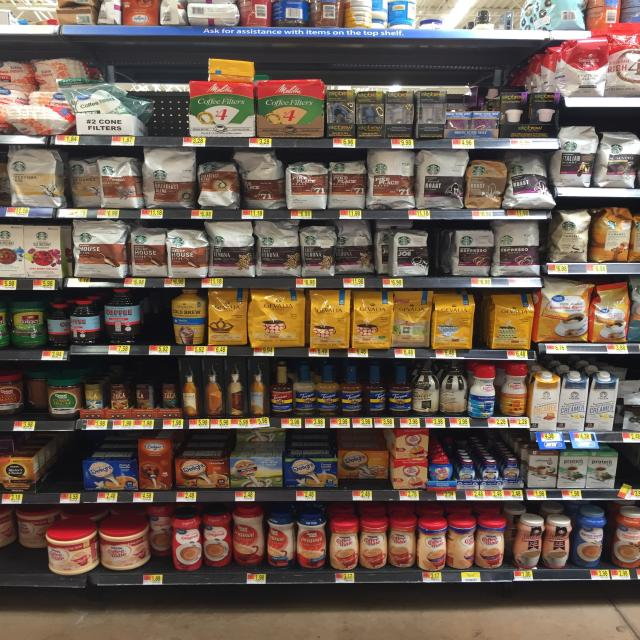unorganised: (57, 74, 143, 123), (233, 149, 287, 212), (503, 150, 555, 209), (376, 220, 428, 278), (335, 218, 376, 274), (393, 291, 433, 348), (231, 505, 264, 566), (64, 154, 101, 207), (336, 450, 390, 485), (445, 517, 478, 569), (265, 514, 295, 568), (470, 364, 498, 419), (13, 509, 47, 548), (46, 299, 70, 348), (149, 513, 170, 559), (25, 369, 45, 415)
